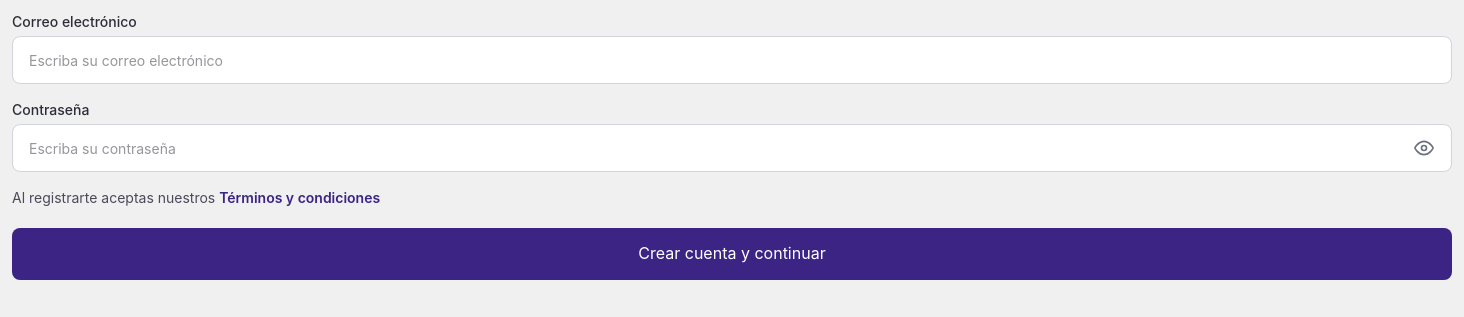
FormularioRegistroCorreo › muestra el mensaje del backend cuando el registro falla
Type "usuario@correo.com" into the field labelled "Correo electrónico" at (732, 60), box [12,36,1452,84]
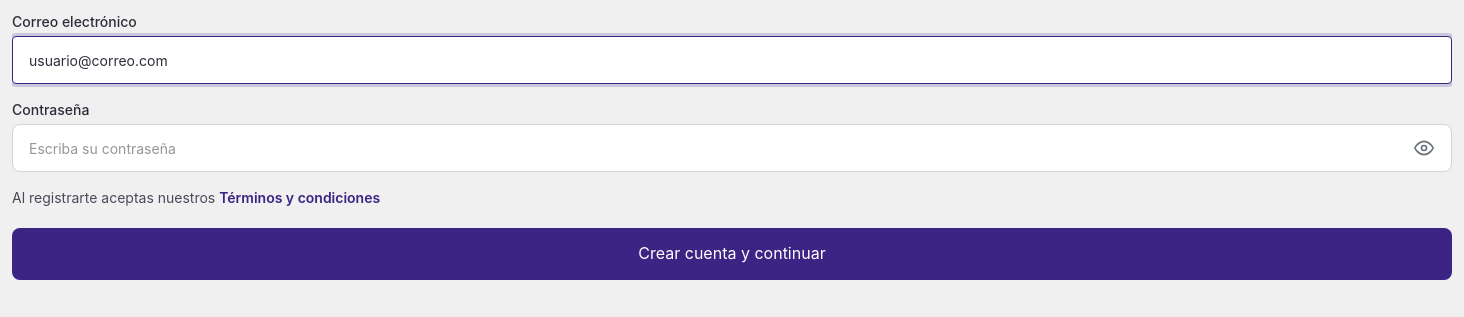
Type "Secreta123" into the password field labelled "Contraseña" at (732, 148), box [12,124,1452,172]
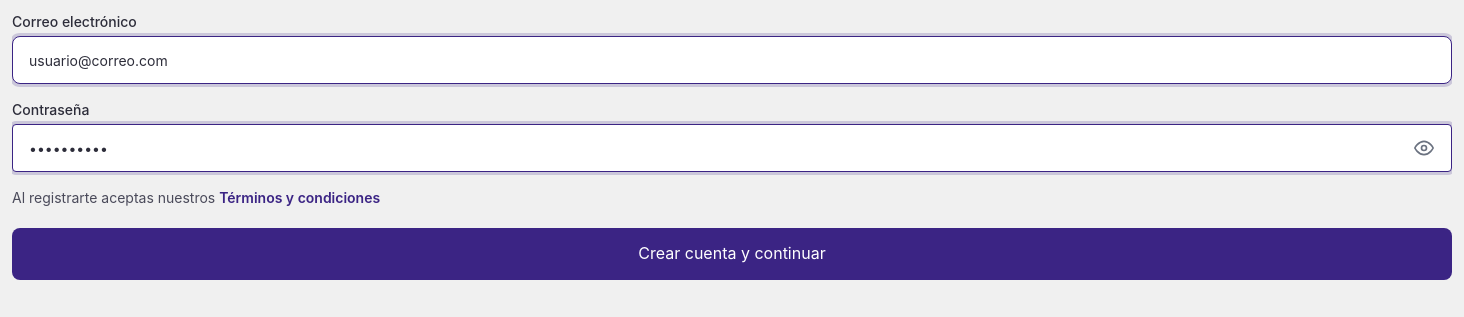
Click the button "Crear cuenta y continuar" at (732, 254), box [12,228,1452,280]
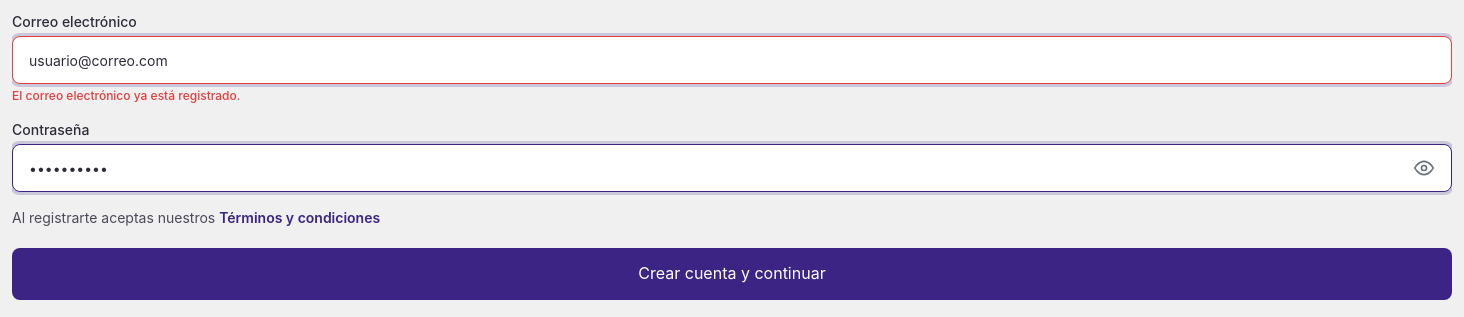
Expected: the text "El correo electrónico ya está registrado." is shown, [12,88,240,103]
